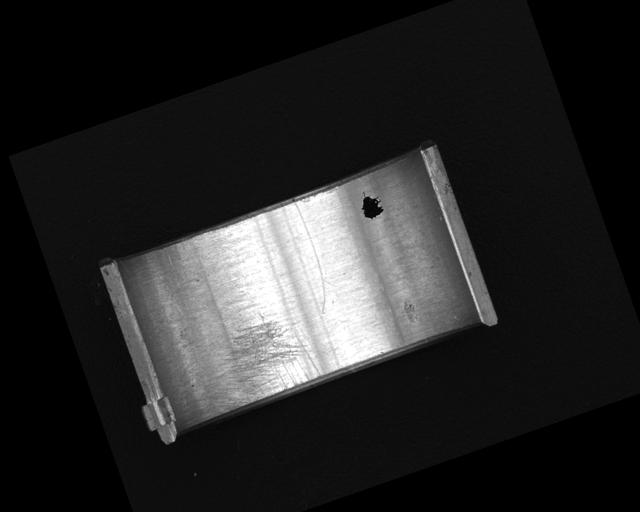blot: (355, 186, 386, 222)
bruise: (399, 298, 420, 325)
nick: (282, 198, 337, 315)
scratch: (194, 299, 325, 416)
